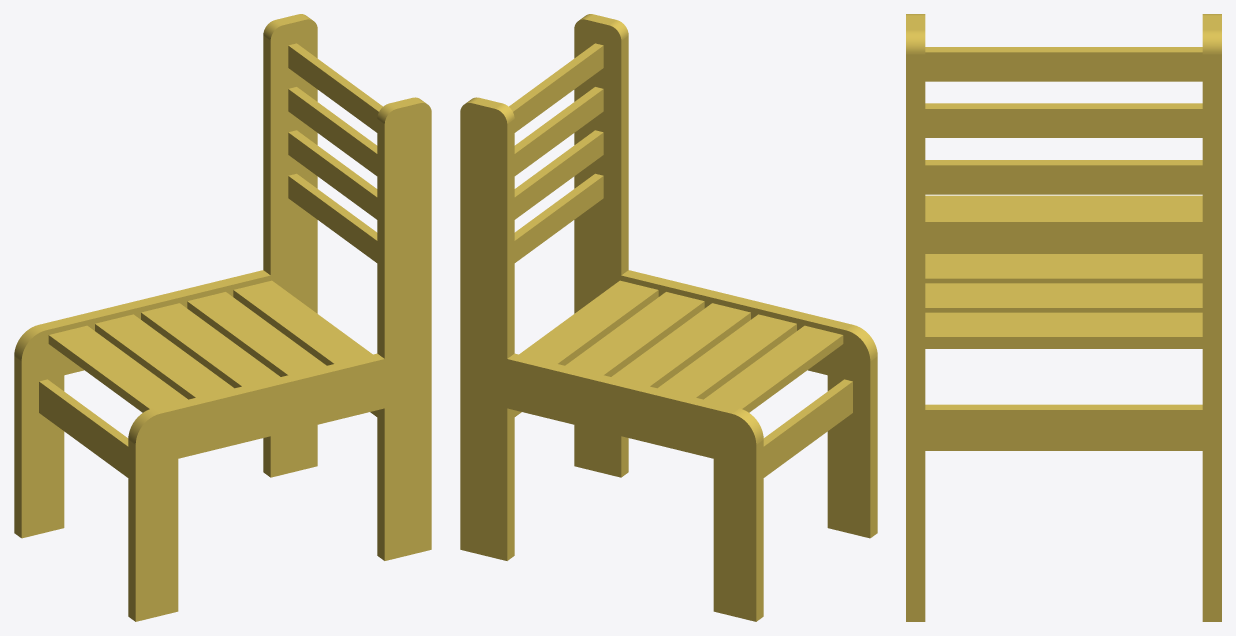
File: chair.obj
3 views of the same model, side by side, from view 1: azimuth 30°, elevation 25°; view 2: azimuth 150°, elevation 25°; view 3: azimuth 270°, elevation 25° (orthographic). The views are drawn at different scales.
Visible parts, largest first — view 1: Chair; view 2: Chair; view 3: Chair.
Part boxes in pixels (x1,y1,x2,y2): Chair: (14,14,431,621); Chair: (460,14,877,621); Chair: (906,14,1221,621).
Bounding box in the file's own units: 27.15 × 39.37 × 19.29.
